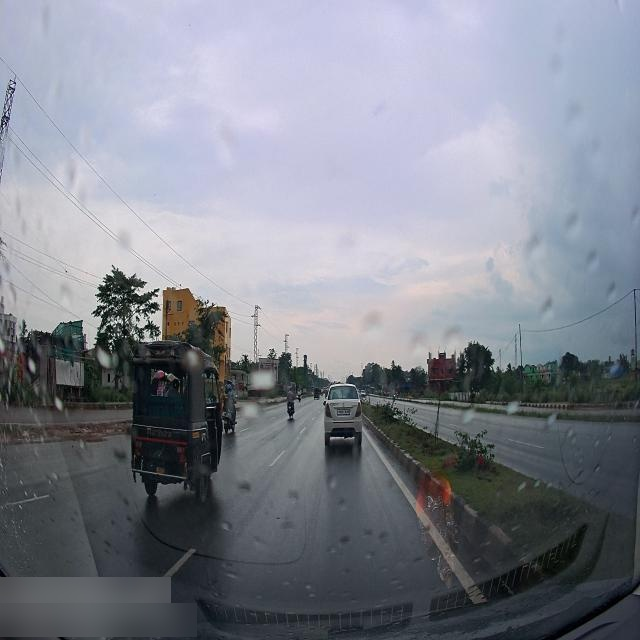pothole: (5, 423, 35, 441), (49, 427, 93, 437), (114, 421, 128, 432)
